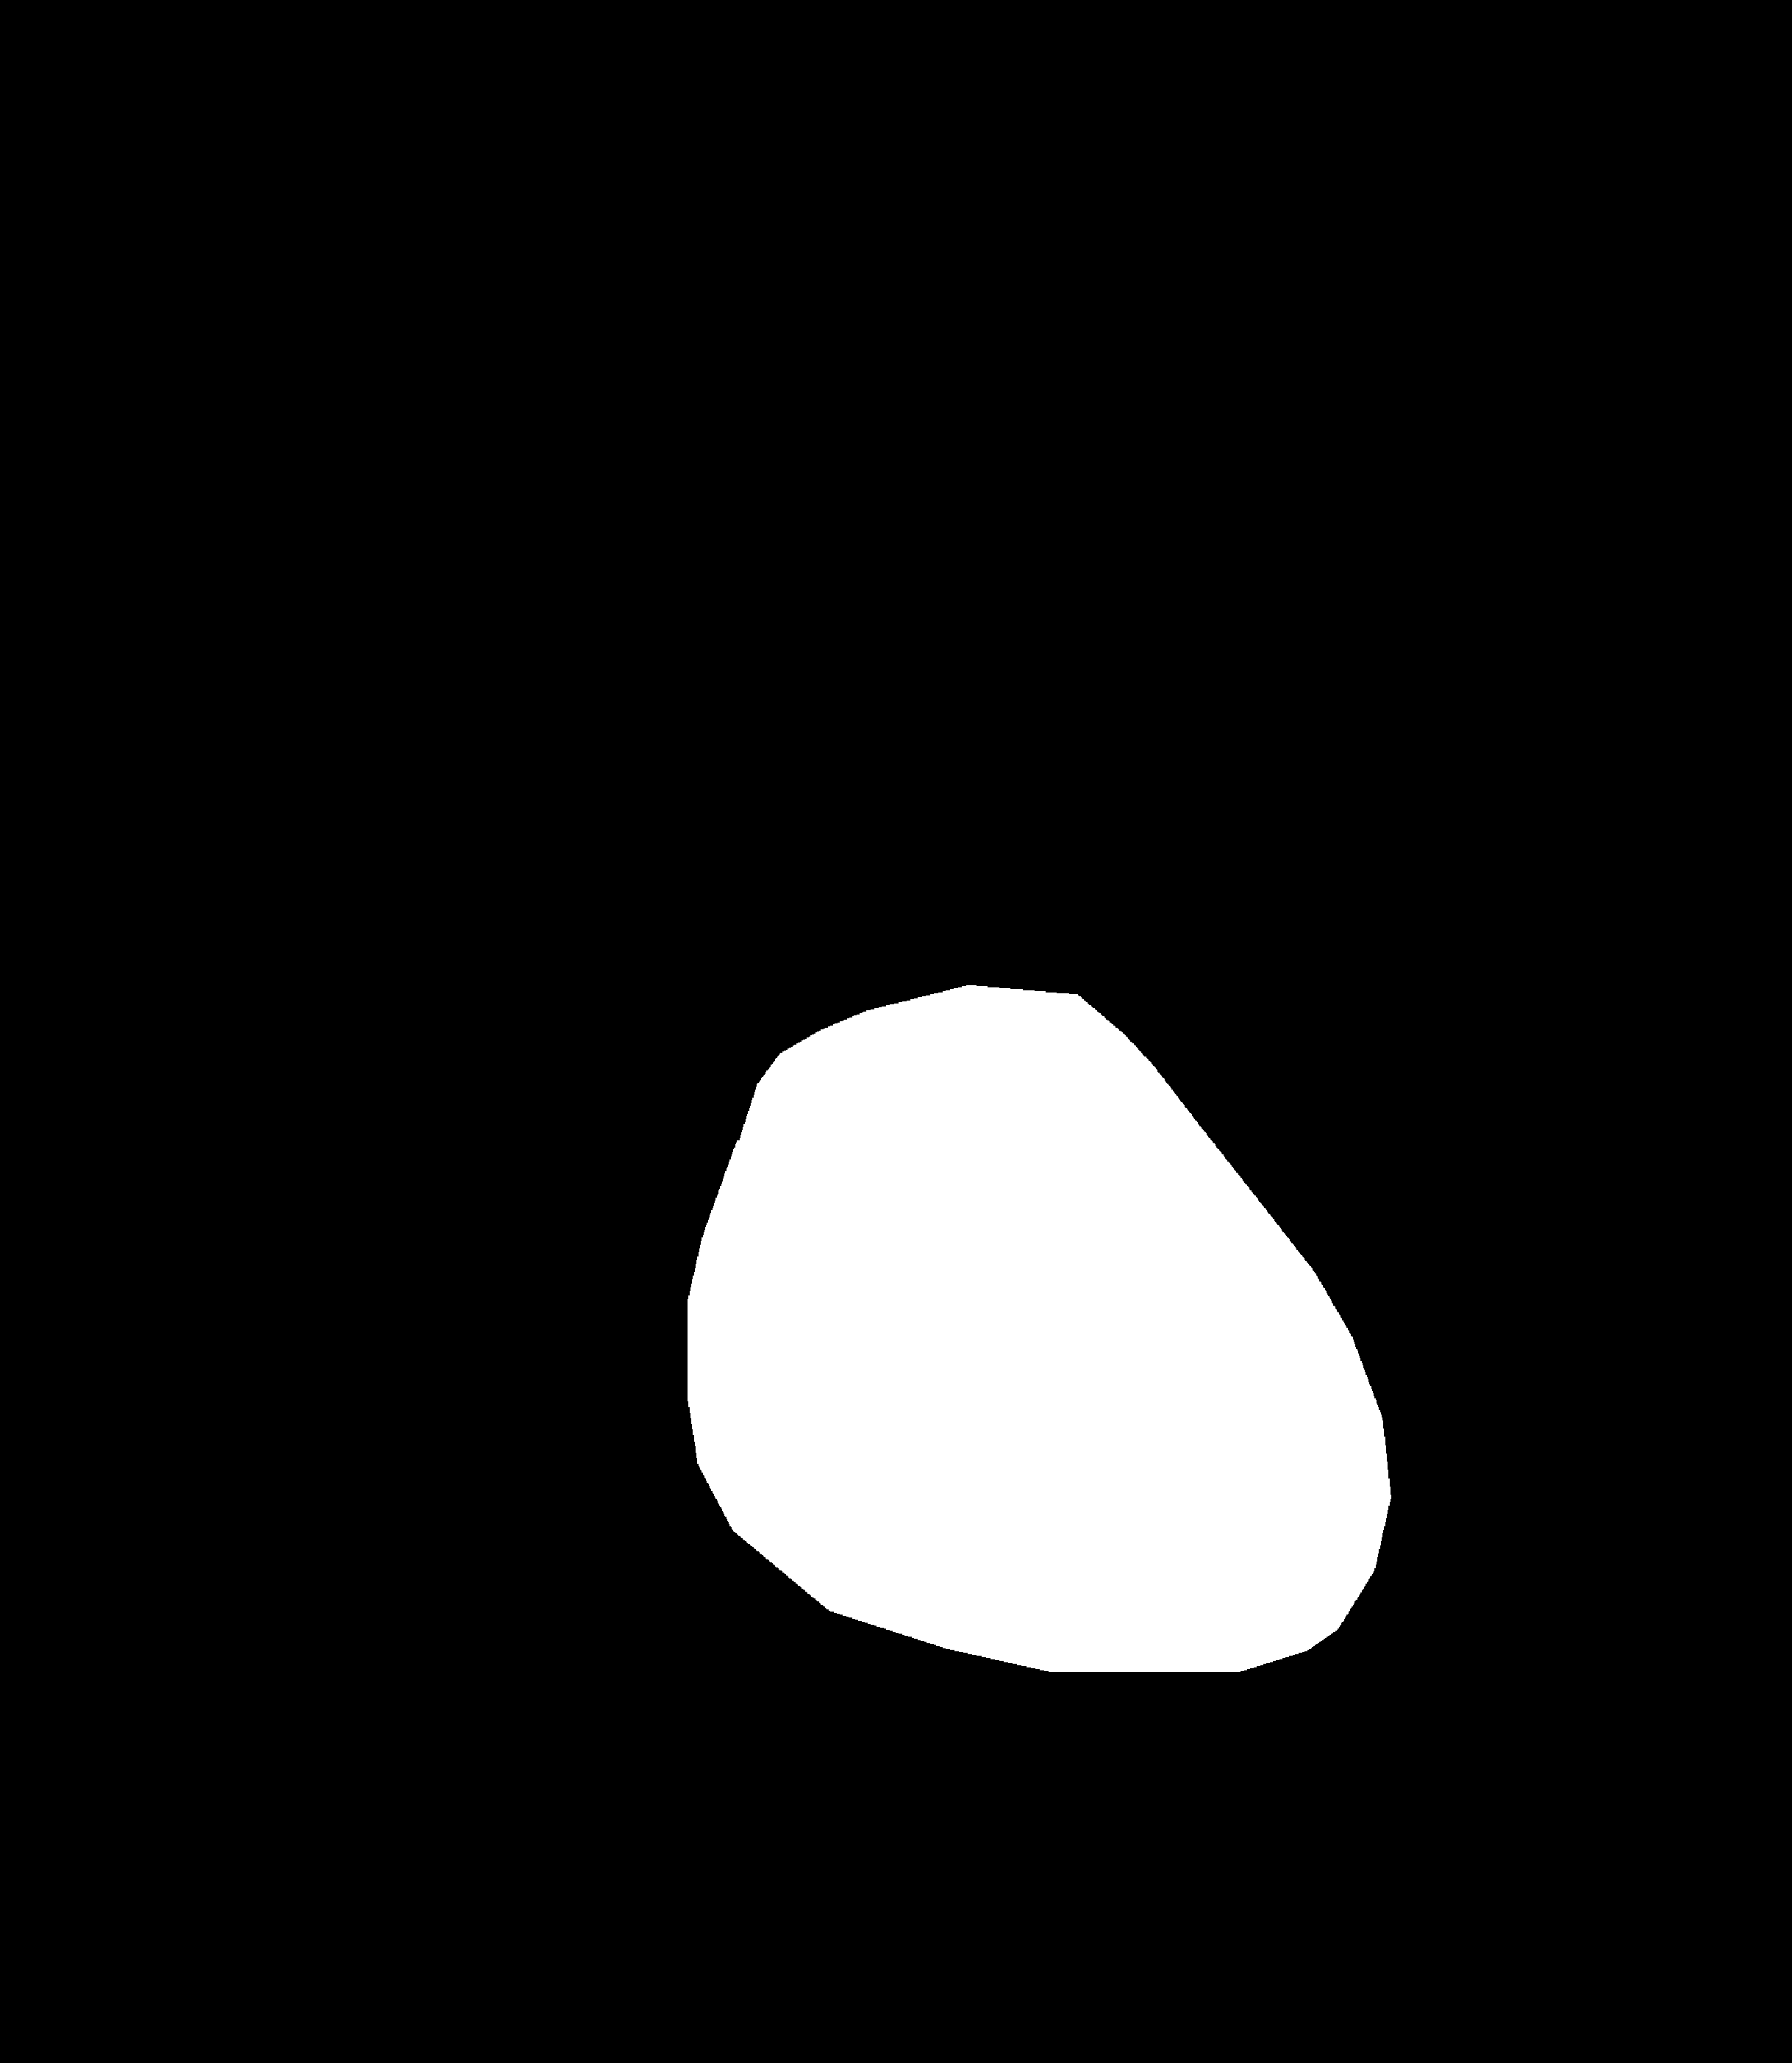heart: (683, 1061, 1392, 1677)
left_lung: (163, 270, 839, 1917)
right_lung: (1021, 284, 1585, 1754)
